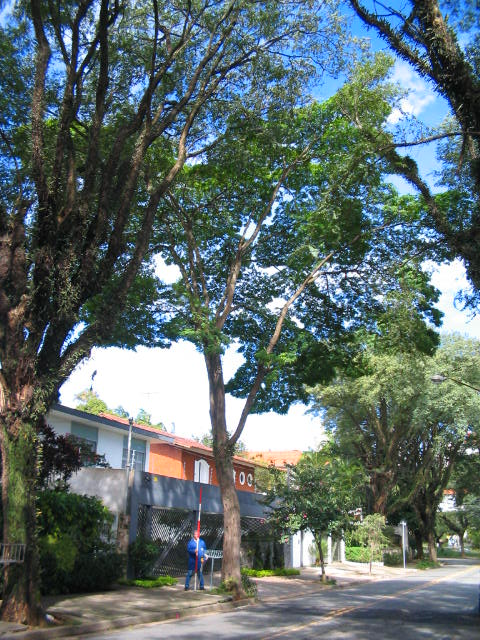crown: (91, 59, 443, 417)
stem: (206, 453, 254, 590)
stick: (188, 485, 207, 591)
tree: (90, 52, 446, 589)
